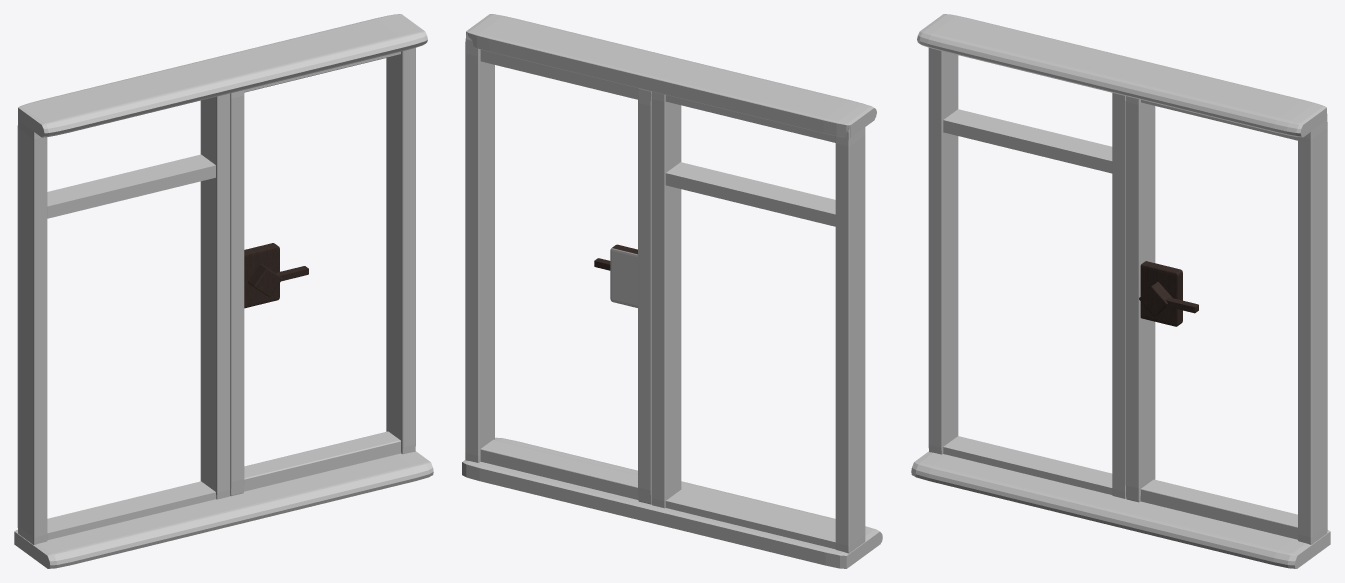
File: windowWITHOUT.fbx
3 renders of one model, left to right at view 1: azimuth 30°, elevation 25°; view 2: azimuth 150°, elevation 25°; view 3: azimuth 330°, elevation 25°, orthographic.
Parts seen in each view (by area): view 1: Cube.137; view 2: Cube.137; view 3: Cube.137.
Boxes of the visible parts, box(x1,y1,x2,y2) form: Cube.137: box(14, 14, 433, 568); Cube.137: box(462, 14, 882, 568); Cube.137: box(911, 14, 1330, 568).
Size of the model in its own units: 385 by 423 by 68.87.
